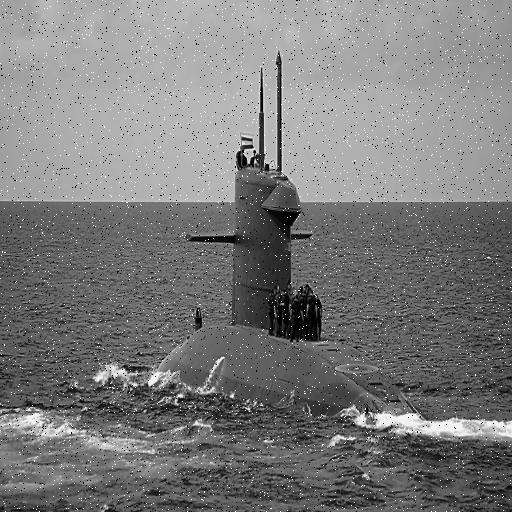submarine: (156, 55, 428, 431)
